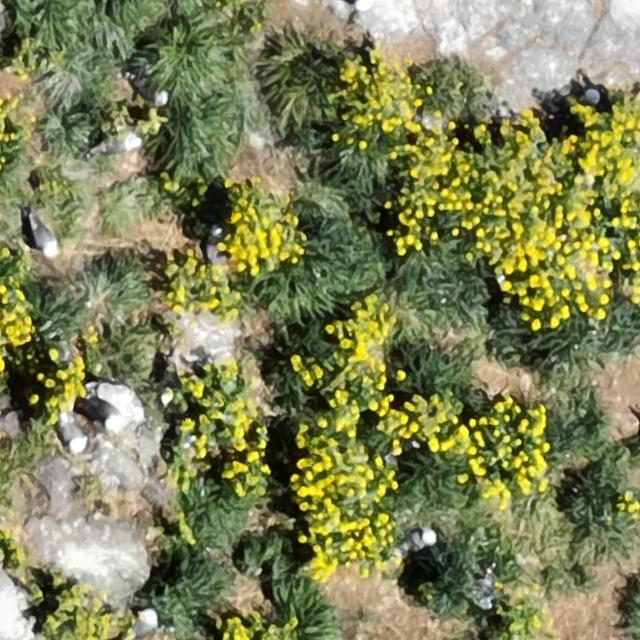umineko: (83, 400, 125, 434), (128, 76, 168, 105), (33, 221, 59, 256), (106, 133, 145, 155), (63, 419, 85, 454), (402, 530, 436, 552), (133, 611, 157, 636), (579, 85, 600, 105)
